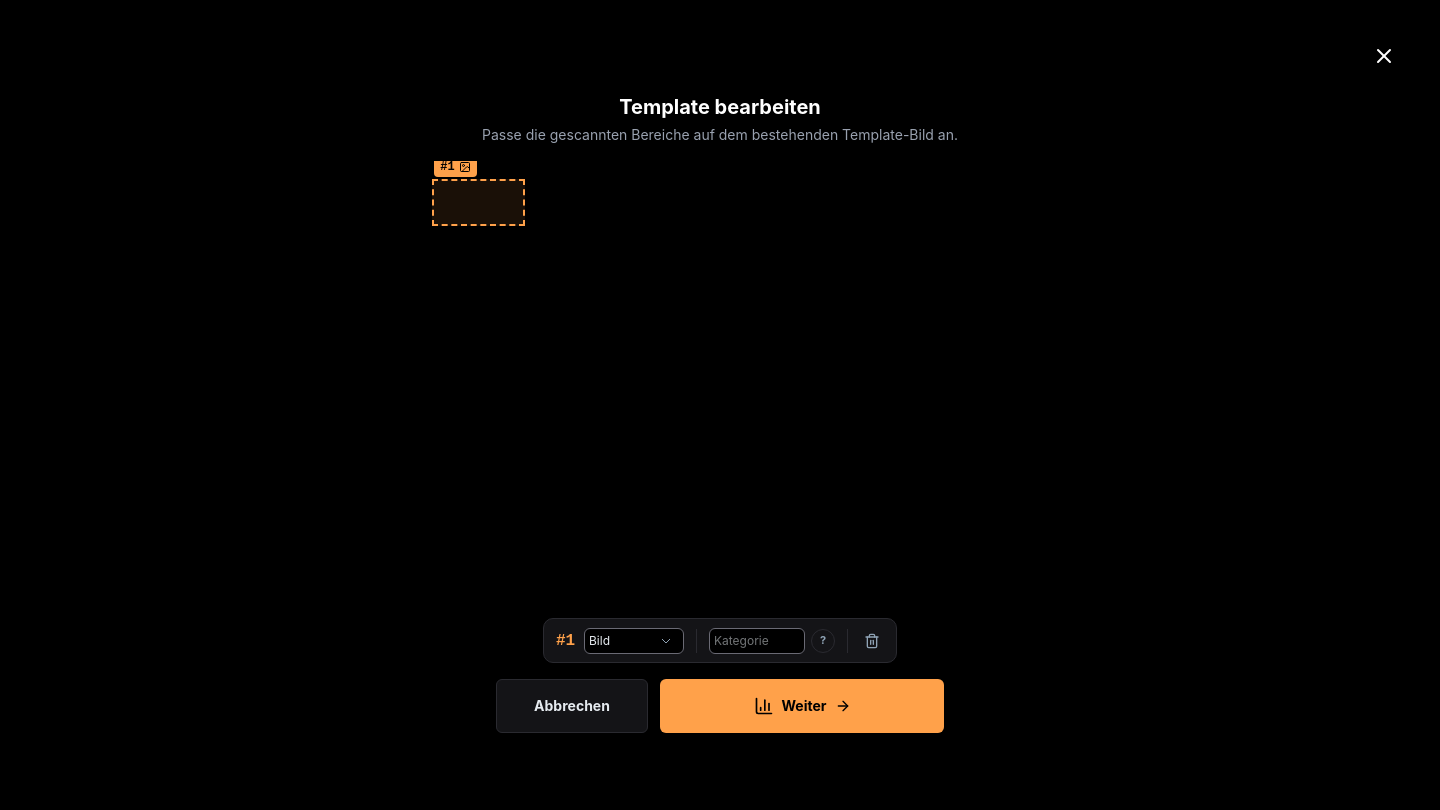
TemplateEditor › pre-fills template name from initialName prop in confirm phase
Expected: the number of buttons titled "Region löschen" is 1, 860,629 -> 884,653
# Click Next to enter confirm phase
Step 1. Click the button "Weiter" → x=802, y=706, box 660,679 -> 944,733
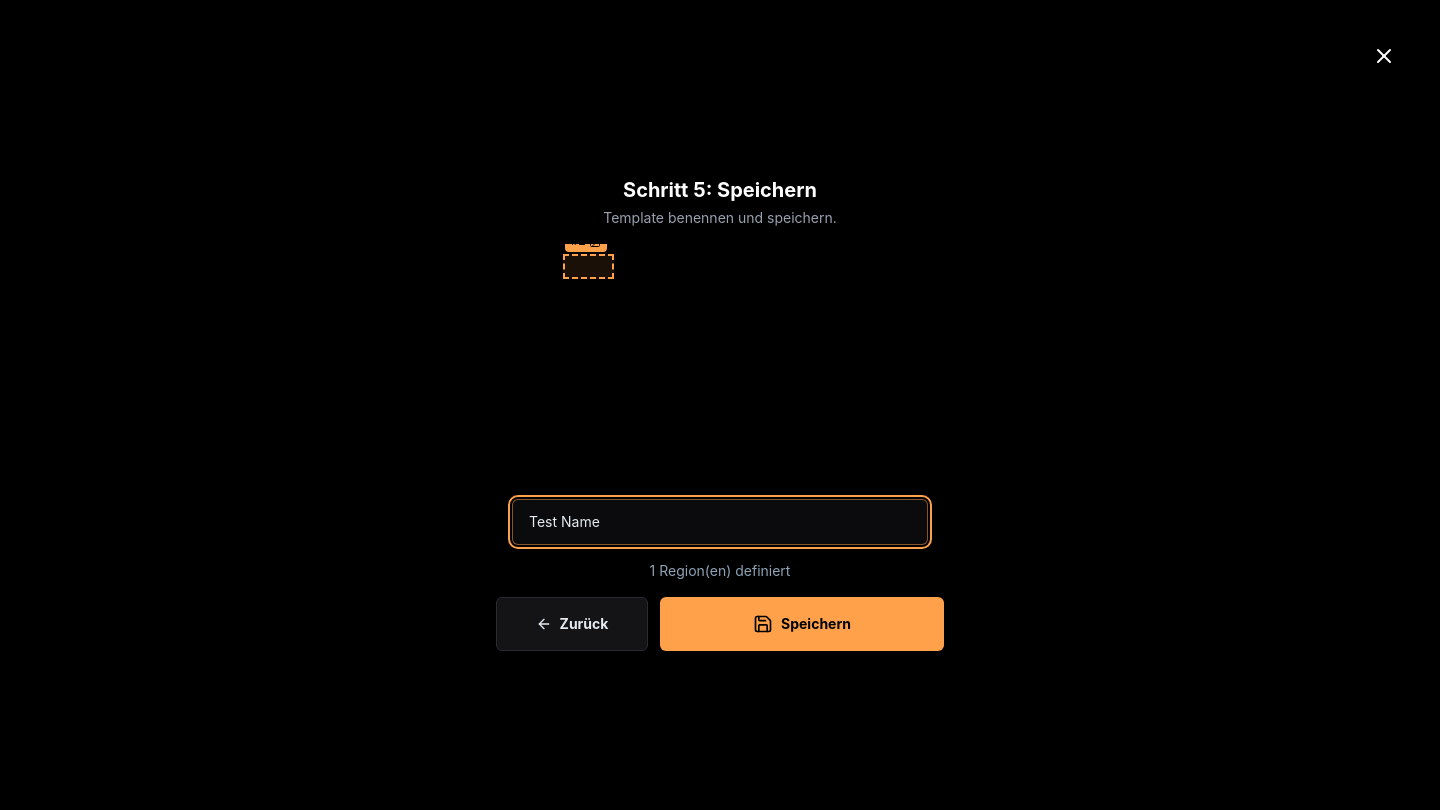
Result: the field named "Template-Name (optional)" holds "Test Name" at 512,498 -> 928,544
